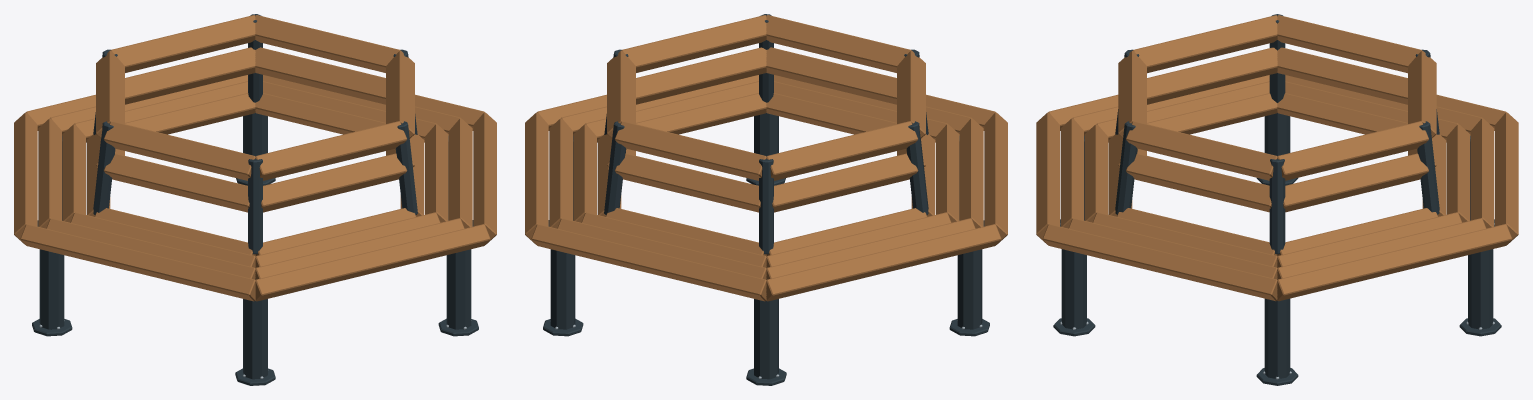
The model's file is b01_hexagonal_tree_bench.glb.
The picture shows the model from 3 angles, left to right: view 1: azimuth 30°, elevation 25°; view 2: azimuth 150°, elevation 25°; view 3: azimuth 270°, elevation 25°; orthographic projection.
Parts seen in each view (by area): view 1: b01_hexagonal_tree_bench; view 2: b01_hexagonal_tree_bench; view 3: b01_hexagonal_tree_bench.
Boxes of the visible parts, left/top/right/bottom form: b01_hexagonal_tree_bench: left=14, top=14, right=496, bottom=385; b01_hexagonal_tree_bench: left=525, top=14, right=1007, bottom=385; b01_hexagonal_tree_bench: left=1036, top=14, right=1518, bottom=385.
Bounding box in the file's own units: 2.36 × 0.9158 × 2.08.
